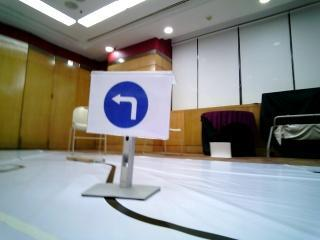left: (95, 75, 165, 130)
